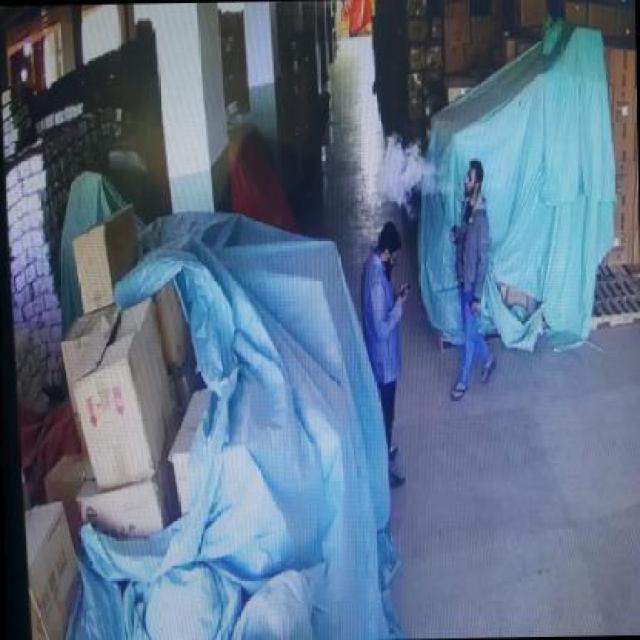fire: (372, 129, 450, 220)
